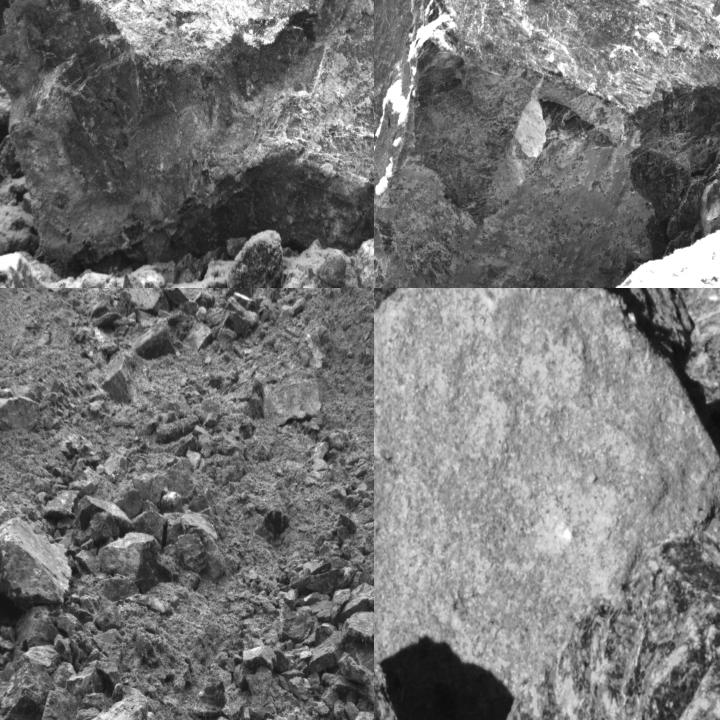stone: (374, 288, 719, 691), (0, 0, 373, 276), (374, 0, 719, 287), (374, 515, 603, 719), (512, 556, 719, 719), (0, 518, 73, 610), (0, 644, 62, 719), (96, 534, 181, 588), (0, 666, 53, 719), (78, 496, 138, 540), (77, 683, 149, 719), (32, 687, 86, 719), (309, 629, 346, 674), (0, 397, 42, 436), (133, 507, 168, 550), (290, 568, 345, 595), (276, 599, 312, 640), (338, 652, 373, 684), (175, 534, 206, 570), (343, 610, 373, 644), (95, 659, 123, 693), (243, 644, 277, 672), (348, 641, 373, 677), (330, 588, 350, 620)
